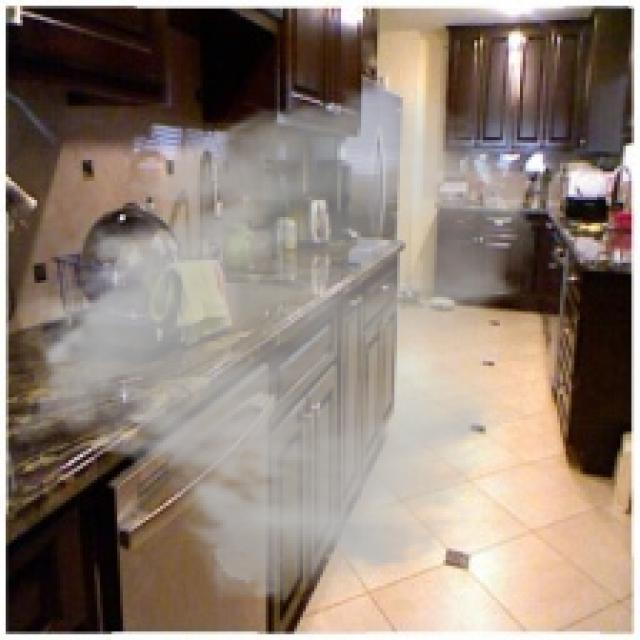Smoke: (6, 80, 540, 609)
